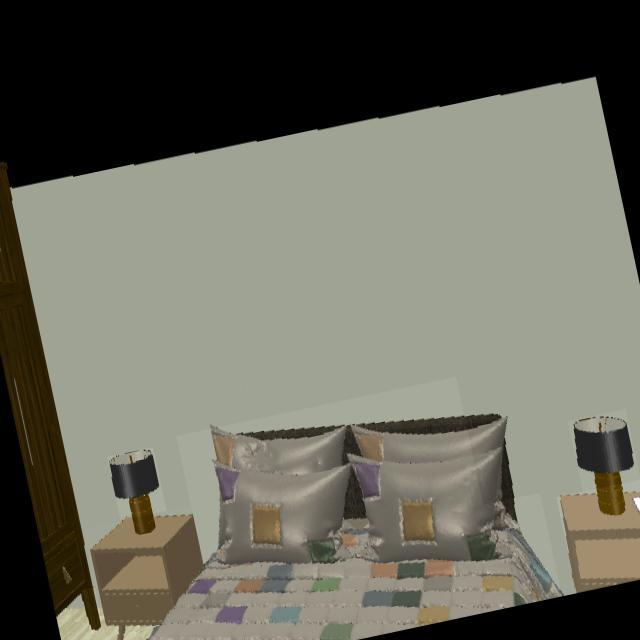bed: (149, 525, 560, 640)
lamp: (574, 416, 635, 516), (109, 451, 161, 533)
nighttable: (89, 513, 204, 625), (559, 492, 640, 592)
pillow: (204, 416, 494, 568)
